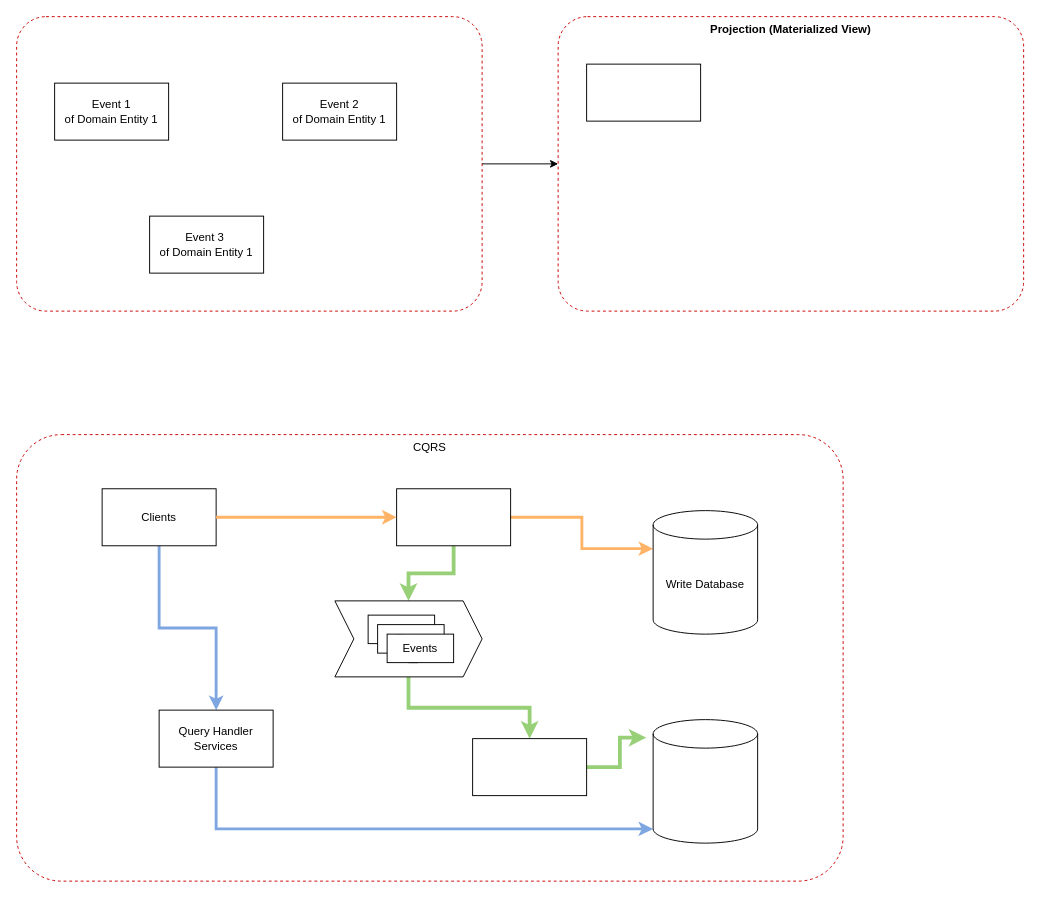
The diagram is 1040 pixels wide and 898 high, and some of its shapes have lost their labels. The box of each missing label's shape, as (x1, y1, x2, y2) in pixels:
Command Handler Services: (396, 488, 511, 546)
Latest state of Domain Entity 1: (586, 63, 701, 121)
Projection Process: (472, 738, 587, 796)
Query Database: (652, 719, 758, 843)
Stream of Events for Domain Entity 1: (16, 16, 482, 311)
